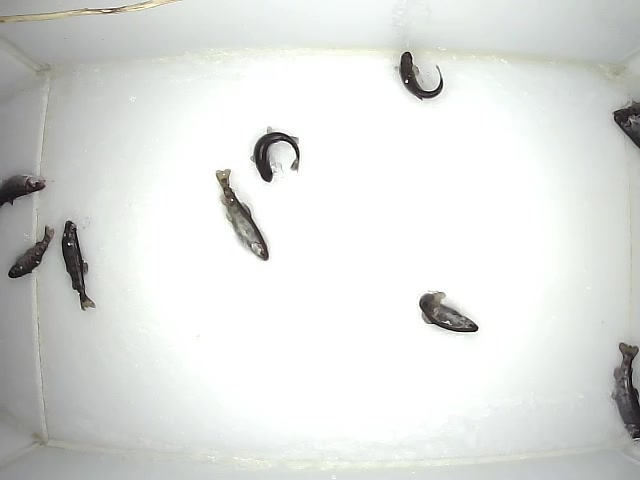fish: (213, 168, 270, 263), (59, 219, 98, 312), (248, 124, 302, 183), (416, 288, 479, 334), (393, 48, 445, 102), (6, 222, 55, 279), (1, 172, 46, 209)
